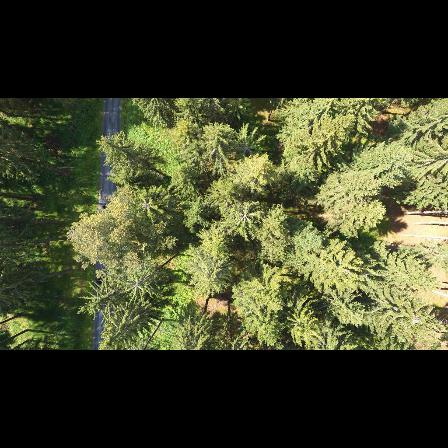Sick: (231, 203, 258, 230), (234, 133, 259, 161), (135, 193, 158, 218)
